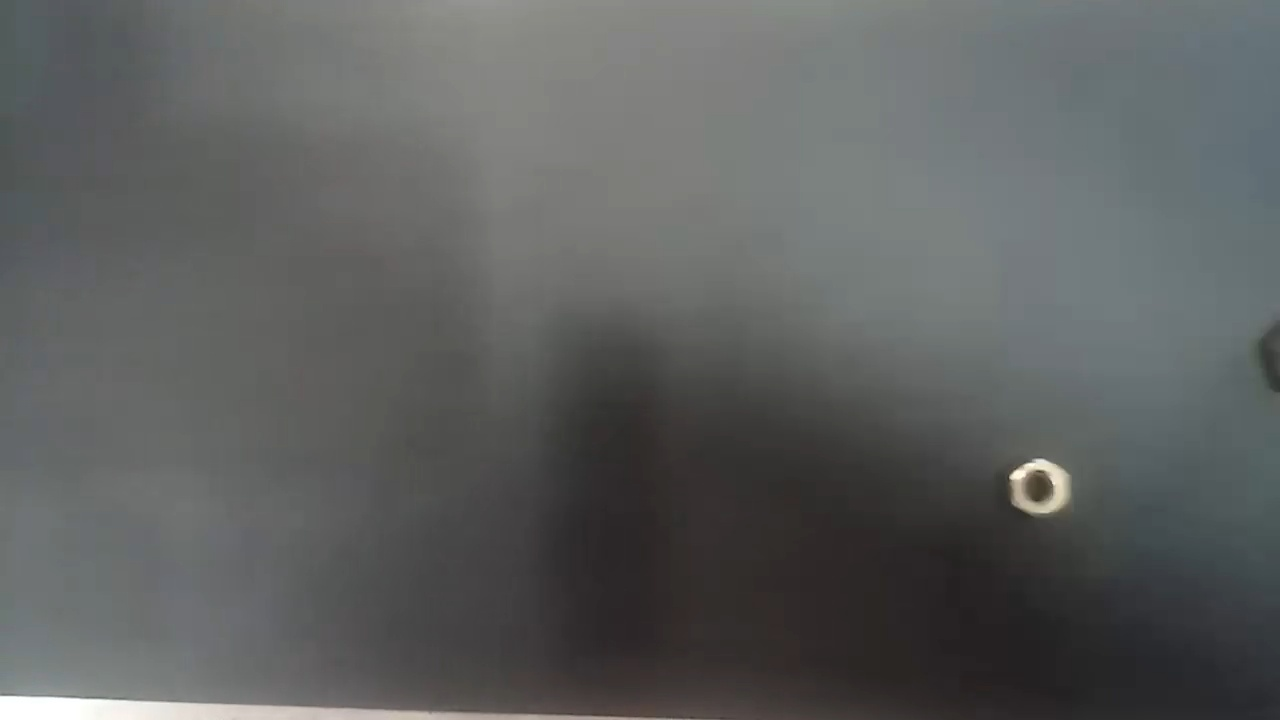Bolt: (1008, 456, 1071, 520)
